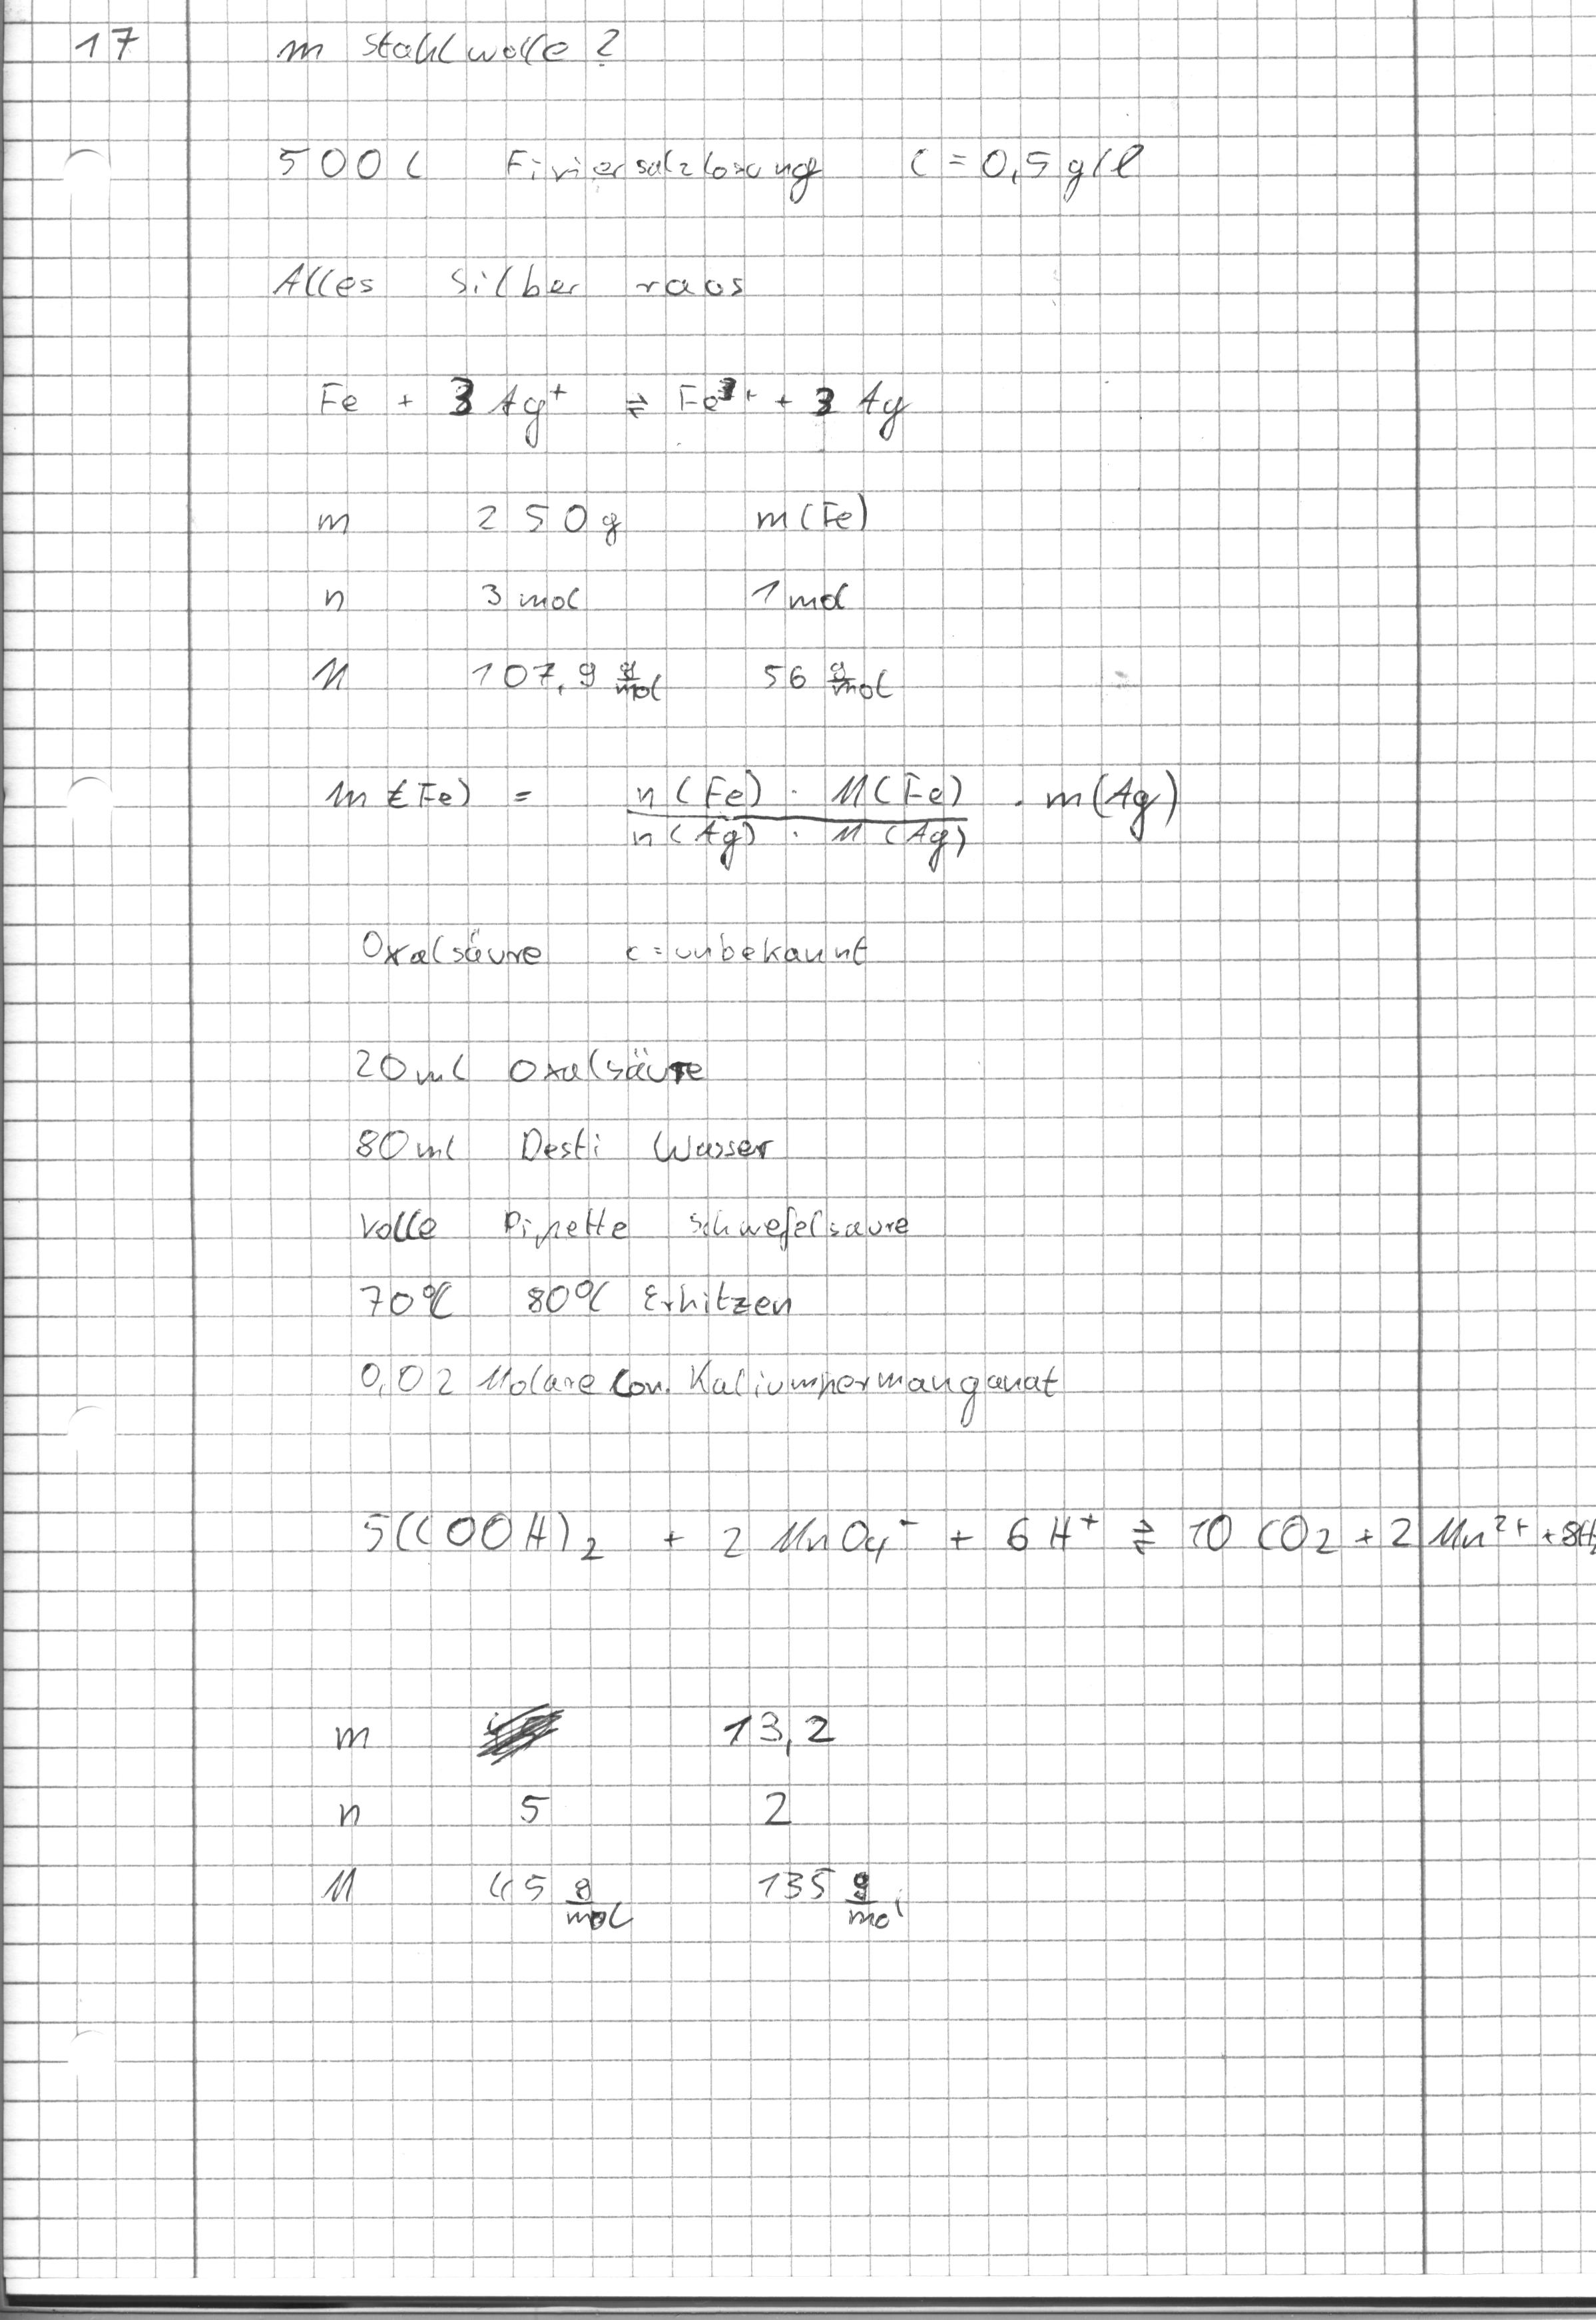word: (290, 1681, 937, 1949), (317, 744, 1194, 880), (351, 1485, 1595, 1578), (355, 1344, 1069, 1444), (298, 353, 921, 455), (269, 130, 834, 215), (310, 647, 905, 726), (344, 906, 894, 992), (306, 478, 880, 551), (309, 561, 868, 637), (338, 1190, 918, 1261), (266, 249, 768, 322), (344, 1112, 800, 1177), (336, 1031, 733, 1103), (351, 1274, 814, 1332), (264, 15, 629, 80), (902, 129, 1155, 208)
